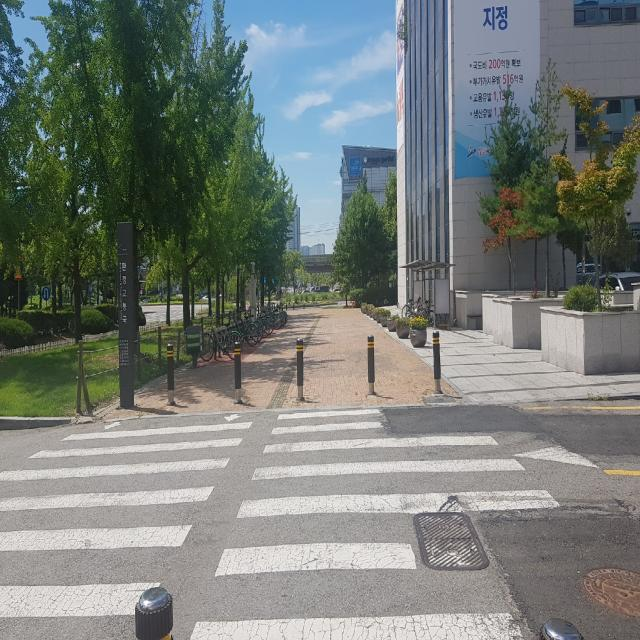횡단보도: (0, 409, 561, 640)
